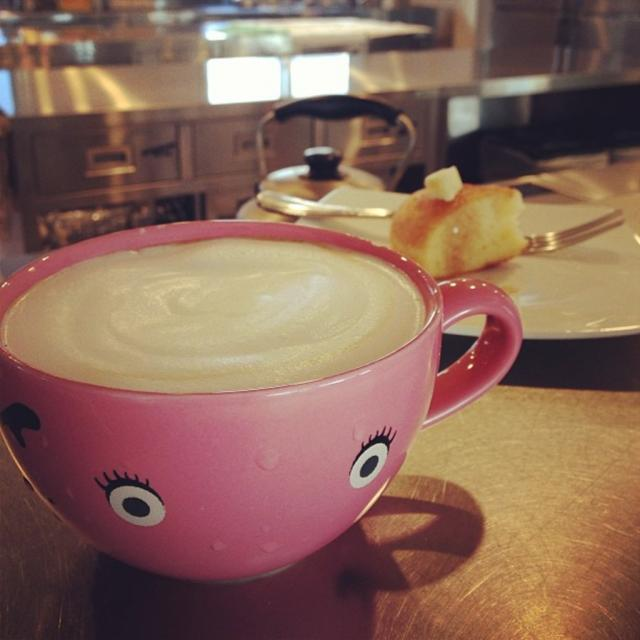Coffee: (1, 241, 431, 393)
